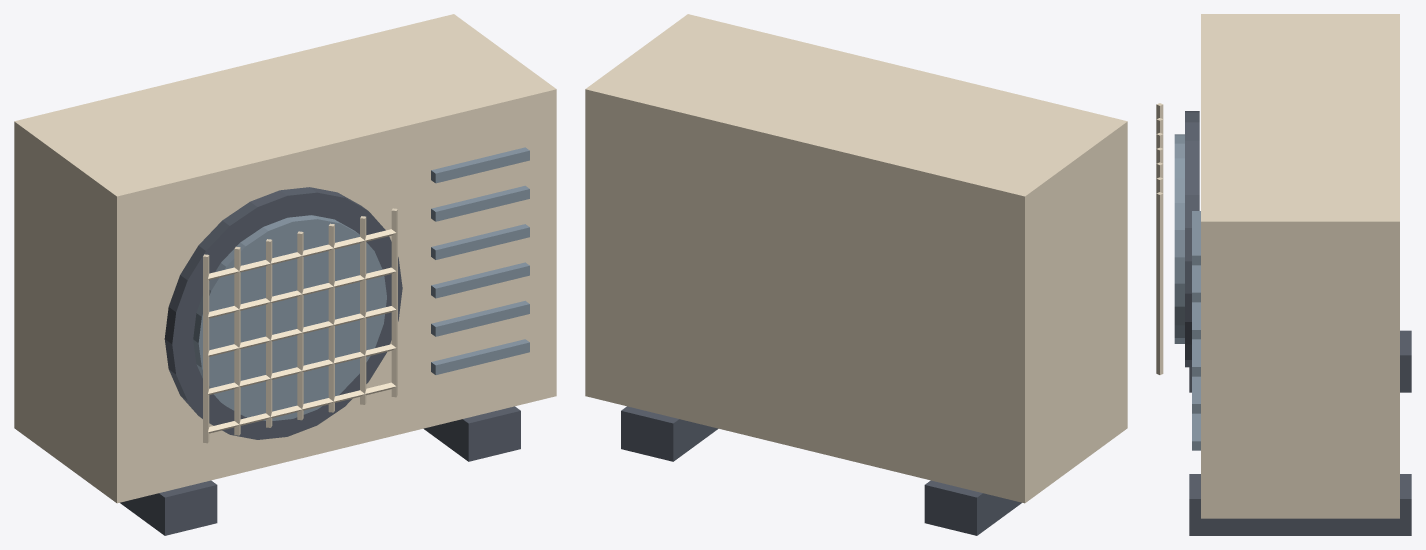
Rendered from SM_AC_Outdoor.fbx.
3 views of the same model, side by side, from view 1: azimuth 30°, elevation 25°; view 2: azimuth 150°, elevation 25°; view 3: azimuth 270°, elevation 25° (orthographic). The views are drawn at different scales.
Visible parts, largest first — view 1: SM_AC_Outdoor; view 2: SM_AC_Outdoor; view 3: SM_AC_Outdoor.
Boxes of the visible parts, x1,y1,x2,y2 form: SM_AC_Outdoor: (14, 14, 556, 535); SM_AC_Outdoor: (585, 14, 1127, 535); SM_AC_Outdoor: (1156, 14, 1411, 535).
Bounding box in the file's own units: 0.84 × 0.436 × 0.63.
